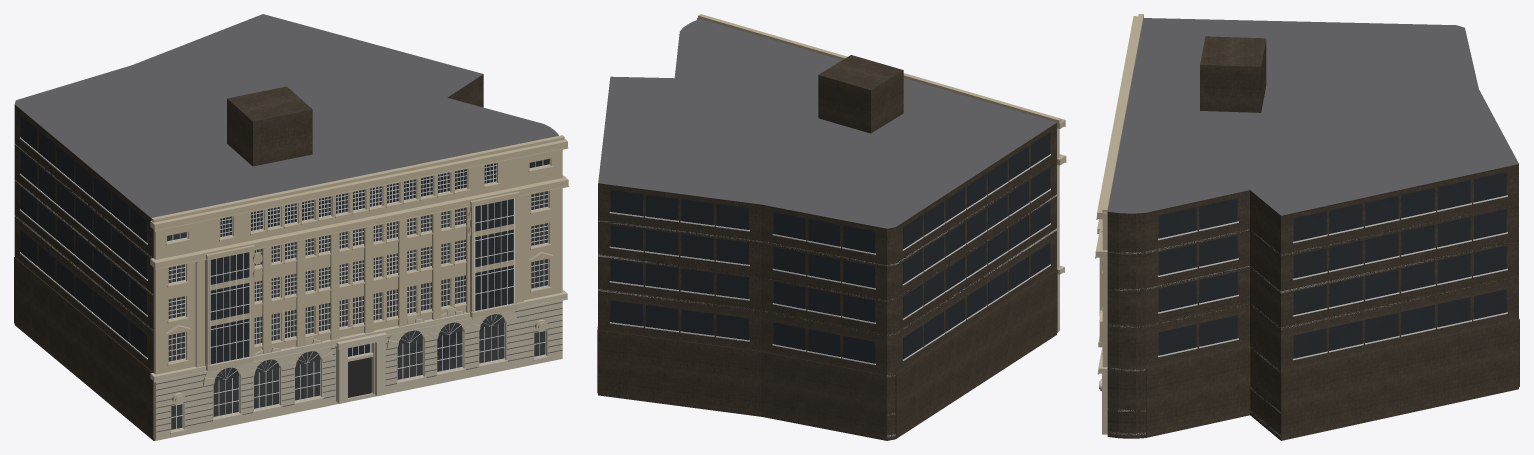
File: barclay_hero.glb
The picture shows the model from 3 angles, left to right: view 1: azimuth 30°, elevation 25°; view 2: azimuth 150°, elevation 25°; view 3: azimuth 270°, elevation 25°; orthographic projection. The views are drawn at different scales.
Parts seen in each view (by area): view 1: HERO_body, HERO_oriel_base, HERO_cartouche, Window_03_glass, HERO_side_block_base, Window_01_glass, Cornice, Window_02_glass, Window_05_glass, HERO_roof_tower, Window_04_glass, Window_03_frame (+8 smaller); view 2: HERO_body, HERO_side_block_base, Window_02_glass, Window_03_glass, Window_04_glass, Window_05_glass, HERO_roof_tower, Cornice, Window_02_frame, Window_04_frame, Window_05_frame, Window_03_frame (+2 smaller); view 3: HERO_body, HERO_side_block_base, Window_04_glass, Window_03_glass, Window_05_glass, Window_02_glass, HERO_roof_tower, Cornice, HERO_oriel_base, Window_04_frame, Window_03_frame, Window_02_frame (+3 smaller).
Boxes of the visible parts, left/top/right/bottom form: HERO_body: left=14, top=14, right=558, bottom=440; HERO_oriel_base: left=153, top=149, right=562, bottom=374; HERO_cartouche: left=150, top=290, right=567, bottom=440; Window_03_glass: left=20, top=187, right=547, bottom=364; HERO_side_block_base: left=14, top=257, right=153, bottom=438; Window_01_glass: left=171, top=314, right=545, bottom=429; Cornice: left=150, top=135, right=568, bottom=245; Window_02_glass: left=20, top=230, right=547, bottom=361; Window_05_glass: left=20, top=115, right=549, bottom=242; HERO_roof_tower: left=227, top=86, right=312, bottom=166; Window_04_glass: left=20, top=151, right=547, bottom=282; Window_03_frame: left=19, top=198, right=548, bottom=365; HERO_body: left=598, top=19, right=1056, bottom=440; HERO_side_block_base: left=597, top=269, right=1057, bottom=438; Window_02_glass: left=610, top=243, right=1050, bottom=363; Window_03_glass: left=610, top=201, right=1050, bottom=322; Window_04_glass: left=610, top=167, right=1050, bottom=288; Window_05_glass: left=610, top=132, right=1050, bottom=253; HERO_roof_tower: left=818, top=55, right=903, bottom=133; Cornice: left=697, top=14, right=1065, bottom=128; Window_02_frame: left=609, top=264, right=1050, bottom=365; Window_04_frame: left=609, top=188, right=1050, bottom=289; Window_05_frame: left=609, top=154, right=1050, bottom=254; Window_03_frame: left=609, top=223, right=1050, bottom=323; HERO_body: left=1107, top=18, right=1518, bottom=440; HERO_side_block_base: left=1146, top=318, right=1519, bottom=438; Window_04_glass: left=1158, top=209, right=1506, bottom=278; Window_03_glass: left=1158, top=245, right=1506, bottom=314; Window_05_glass: left=1158, top=172, right=1506, bottom=241; Window_02_glass: left=1158, top=289, right=1506, bottom=358; HERO_roof_tower: left=1200, top=36, right=1266, bottom=112; Cornice: left=1096, top=14, right=1143, bottom=232; HERO_oriel_base: left=1097, top=219, right=1107, bottom=367; Window_04_frame: left=1157, top=232, right=1507, bottom=280; Window_03_frame: left=1157, top=268, right=1507, bottom=316; Window_02_frame: left=1157, top=312, right=1507, bottom=360.
Bounding box in the file's own units: 38.64 × 24.43 × 34.67.
Materials: 10 (2 with a texture image).
